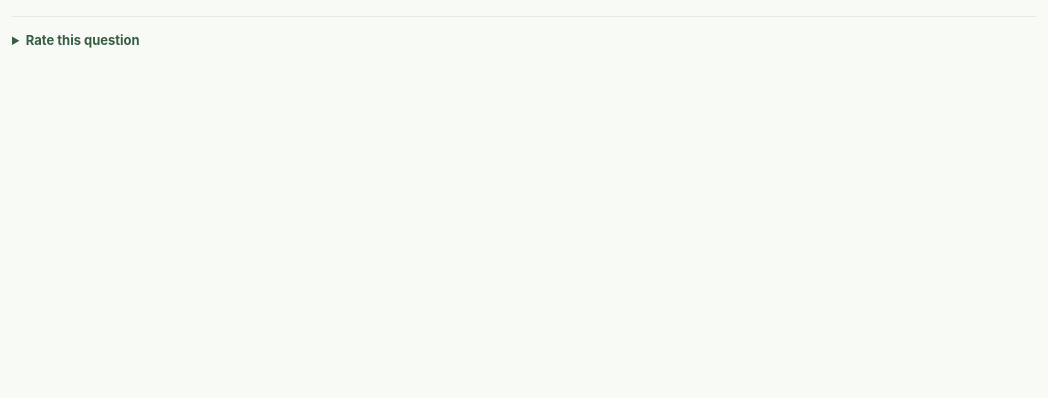
Test case: question feedback › shows load errors without allowing an overwrite and supports retry
Click the heading "Rate this question" at (83, 40), box [26,32,140,48]
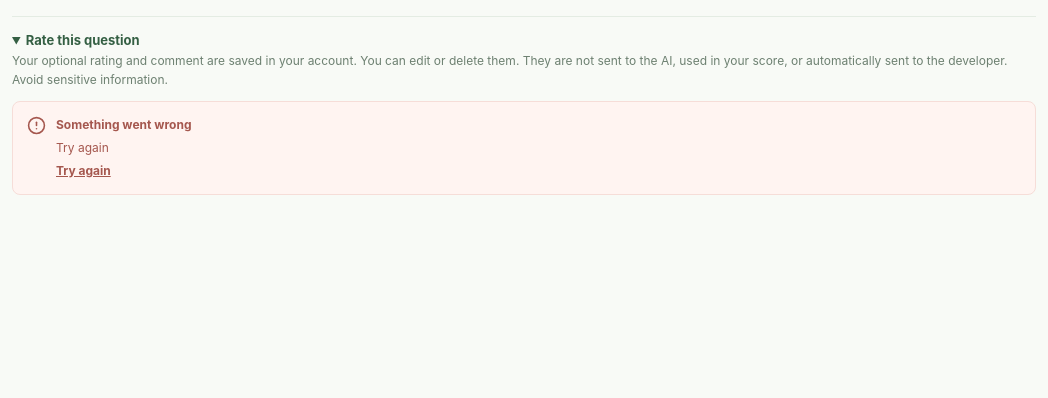
Check: the button "Save feedback" is not shown
Check: the message "Something went wrong Try again Try again" is shown, box [12,101,1036,195]
Click the button "Try again" at (83, 171), box [56,162,111,180]
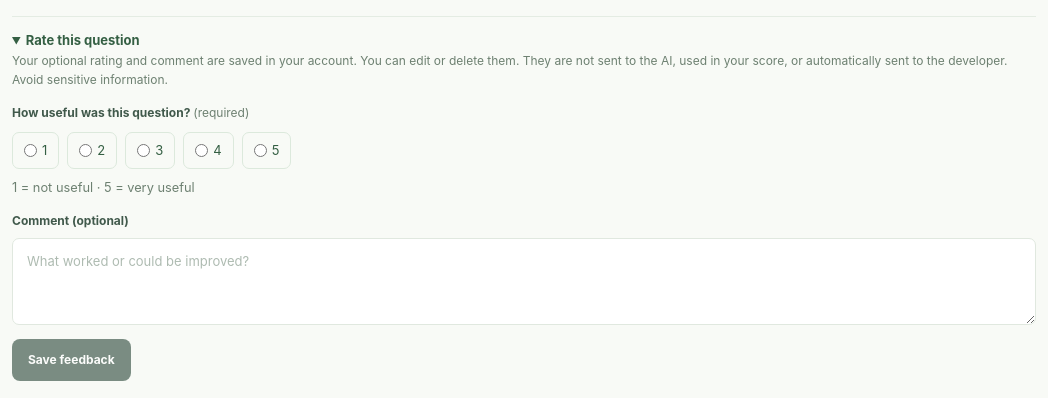
Check: the button "Save feedback" is shown, box [12,339,131,381]
